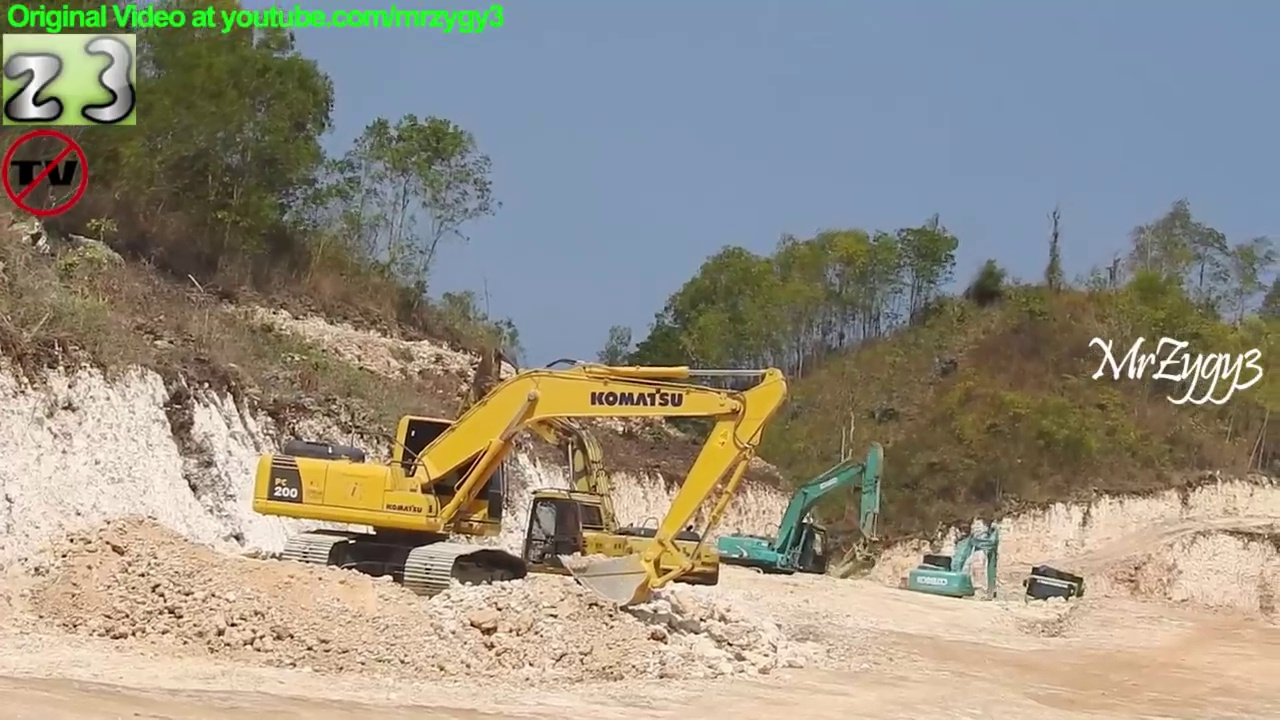excavator: (247, 355, 791, 620), (410, 351, 724, 610), (705, 436, 891, 590), (900, 521, 1007, 620)
truck: (1019, 561, 1093, 636)
